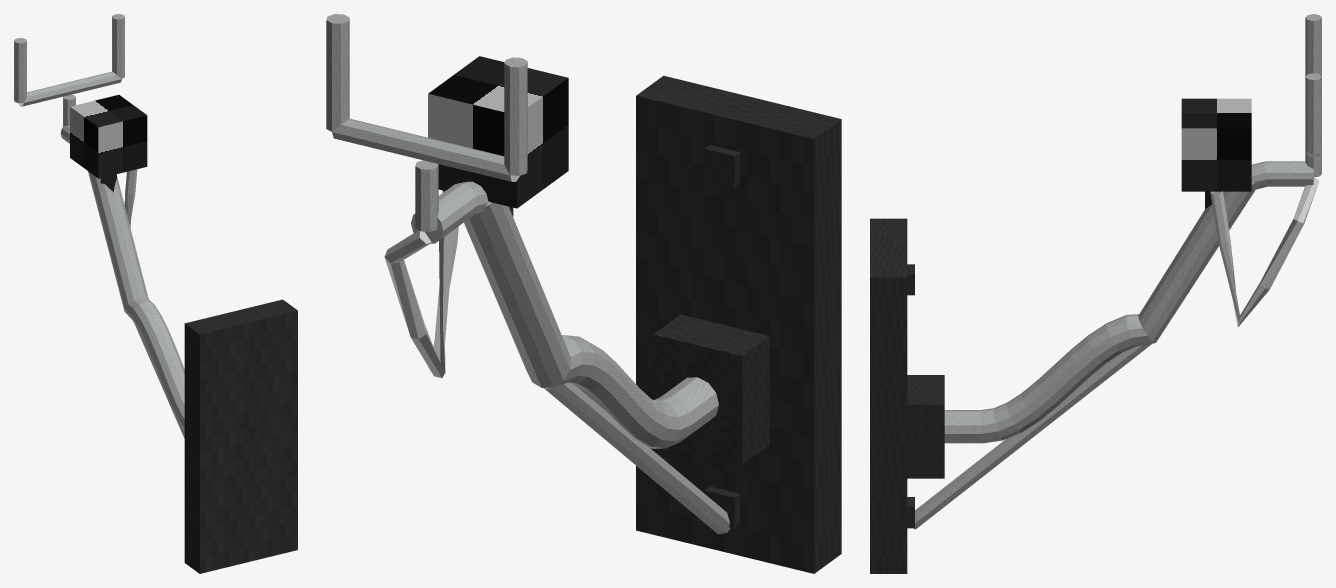
The model's file is arm_1_straight_flood_up_wired.obj.
3 views of the same model, side by side, from view 1: azimuth 30°, elevation 25°; view 2: azimuth 150°, elevation 25°; view 3: azimuth 270°, elevation 25° (orthographic). The views are drawn at different scales.
Visible parts, largest first — view 1: pole_light_mount_1_straight_flood_up_wired; view 2: pole_light_mount_1_straight_flood_up_wired; view 3: pole_light_mount_1_straight_flood_up_wired.
Part boxes in pixels (box(x1,y1,x2,y2)): pole_light_mount_1_straight_flood_up_wired: box(14, 14, 297, 573); pole_light_mount_1_straight_flood_up_wired: box(326, 14, 841, 573); pole_light_mount_1_straight_flood_up_wired: box(870, 14, 1321, 573).
Size of the model in its own units: 0.419 by 1.47 by 1.21.
